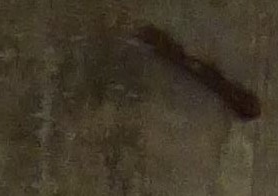Exposed reinforcement: (141, 26, 262, 123)
